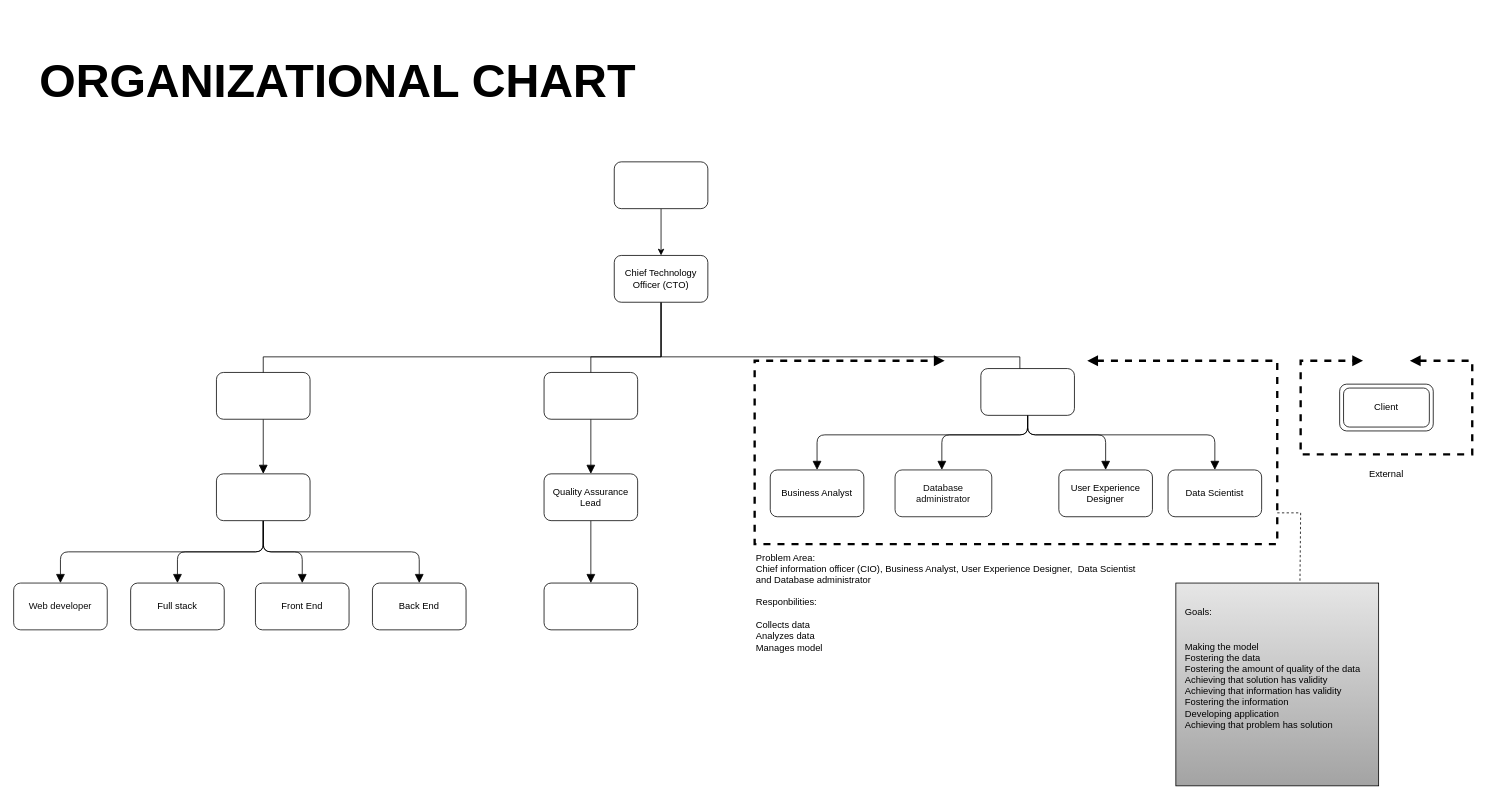
This 1494x800 diagram has some shape labels left out. Each missing label, with the centre of its shape:
"Chief executive officer (CEO)" goes at point 660,185.
"Chief information officer (CIO)" goes at point 1027,391.
"Developing and programming manager" goes at point 590,395.
"Product owner" goes at point 263,395.
"Quality Assurance Tester" goes at point 590,606.
"Scrum master" goes at point 263,497.
